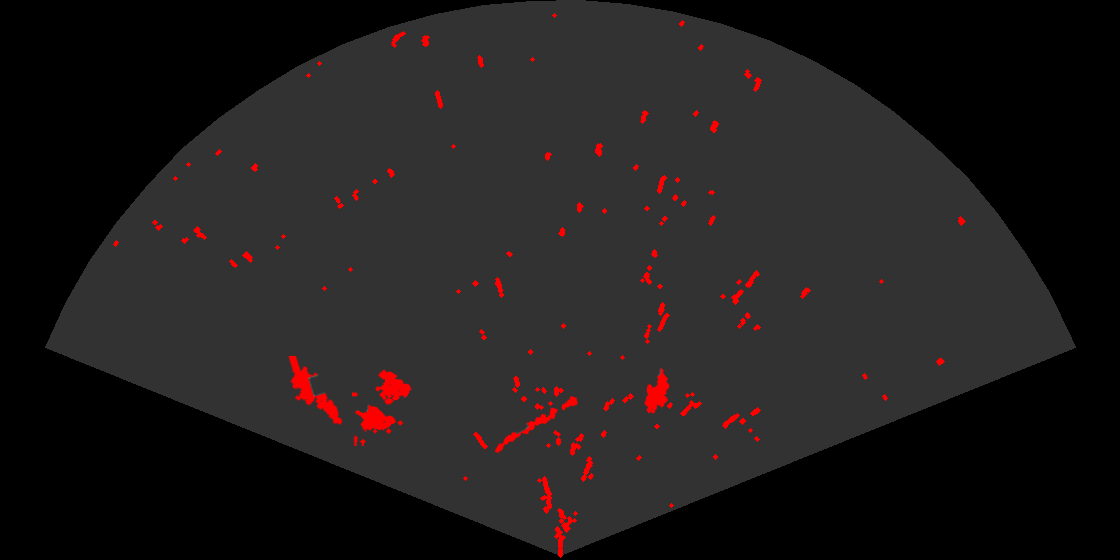AUV: (643, 366, 671, 415)
cage: (352, 368, 413, 446)
chain: (493, 395, 580, 455)
frogman: (287, 356, 344, 427)
